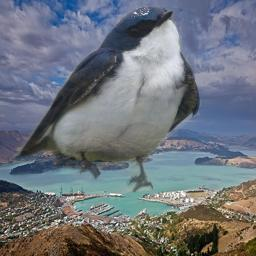Swallow: (13, 5, 202, 194)
